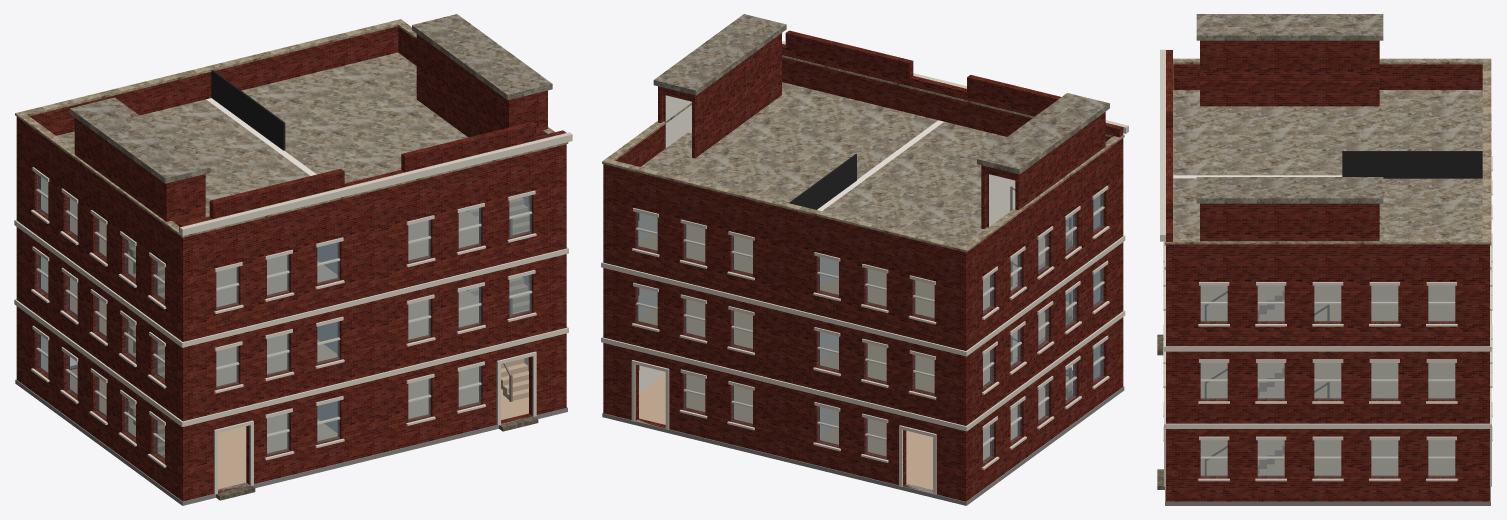
File: mh-dutch-duplex.towns-v1.lod0.glb
The picture shows the model from 3 angles, left to right: view 1: azimuth 30°, elevation 25°; view 2: azimuth 150°, elevation 25°; view 3: azimuth 270°, elevation 25°; orthographic projection. The views are drawn at different scales.
Parts seen in each view (by area): view 1: mh-dutch-duplex; view 2: mh-dutch-duplex; view 3: mh-dutch-duplex.
Boxes of the visible parts, bbox=[...] form: mh-dutch-duplex: bbox=[14, 14, 572, 505]; mh-dutch-duplex: bbox=[601, 14, 1128, 505]; mh-dutch-duplex: bbox=[1157, 14, 1492, 505].
Bounding box in the file's own units: 15.44 × 11.95 × 11.79.
6 materials, 2 textured.
